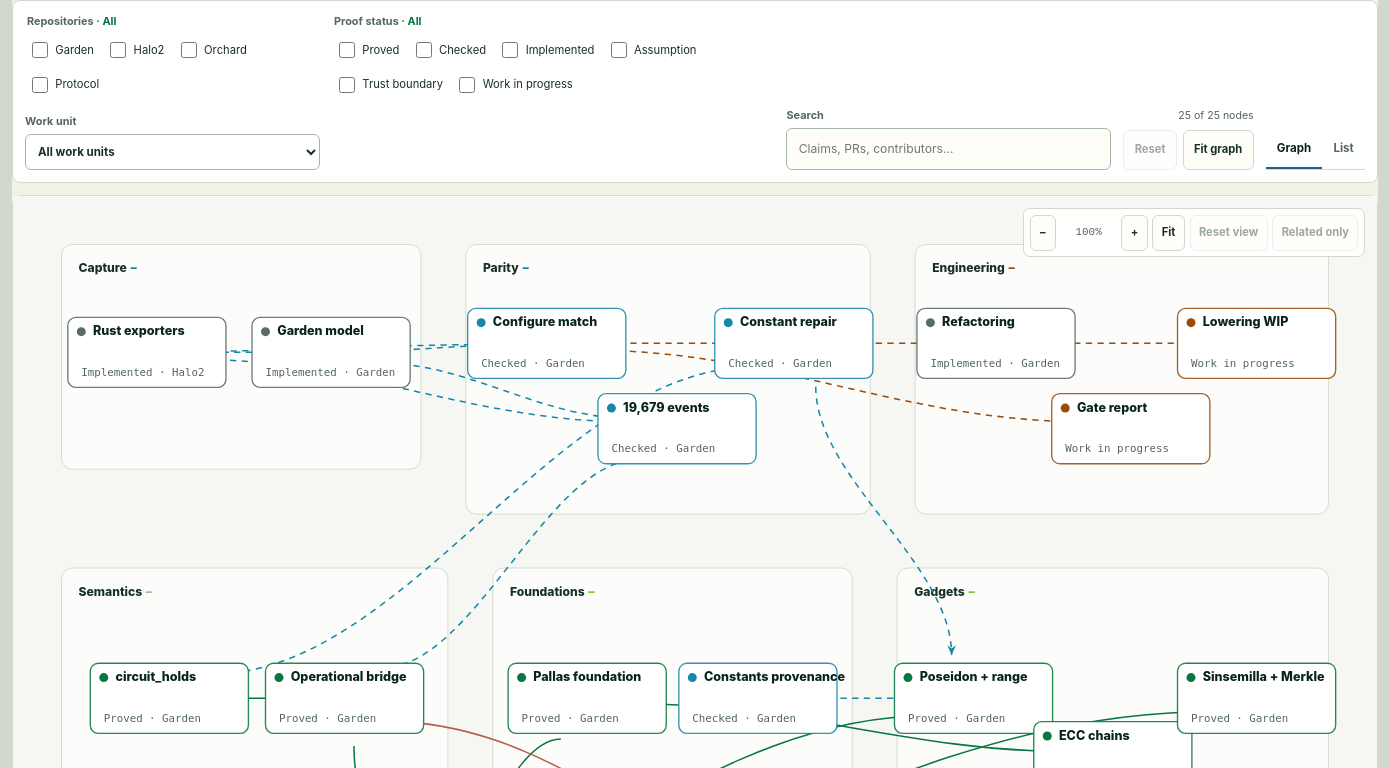
it: proof atlas interactions › filters and searches nodes by development provenance
Select "Operational soundness" in the dropdown named "Filter by work unit": (172, 152) [25,134,320,170]
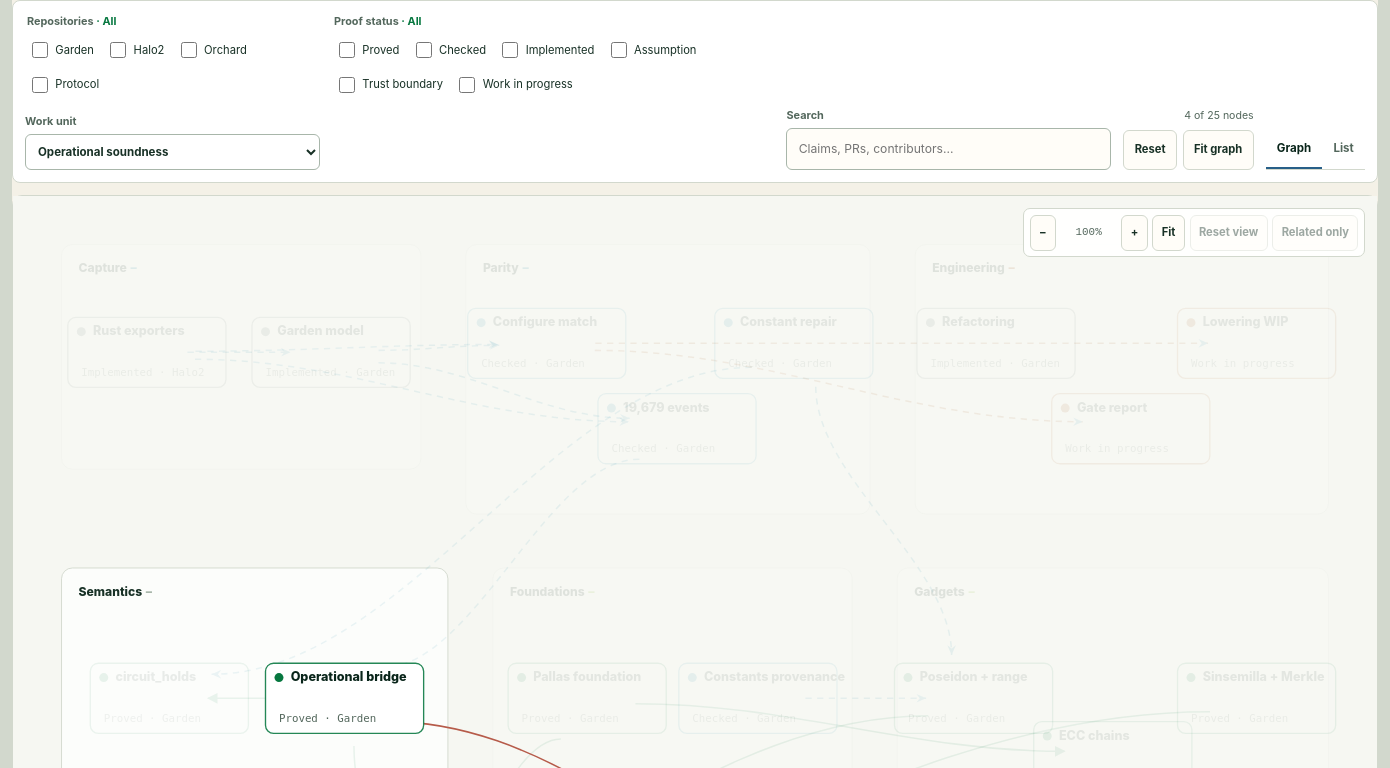
In the search field named "Search the atlas": (949, 149) [786,128,1111,170], type "Migrated PR 29"
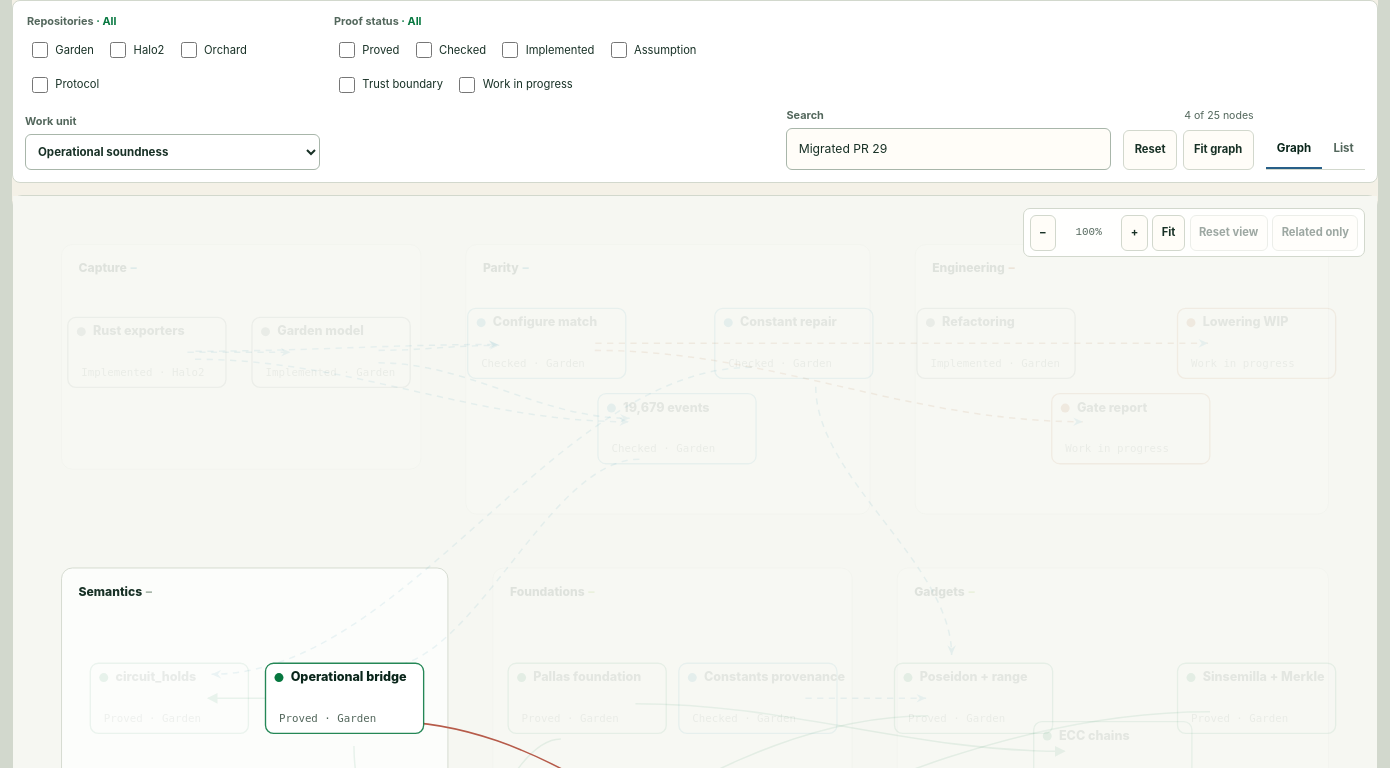
Click the button "Reset": (1150, 150) [1123,130,1177,170]
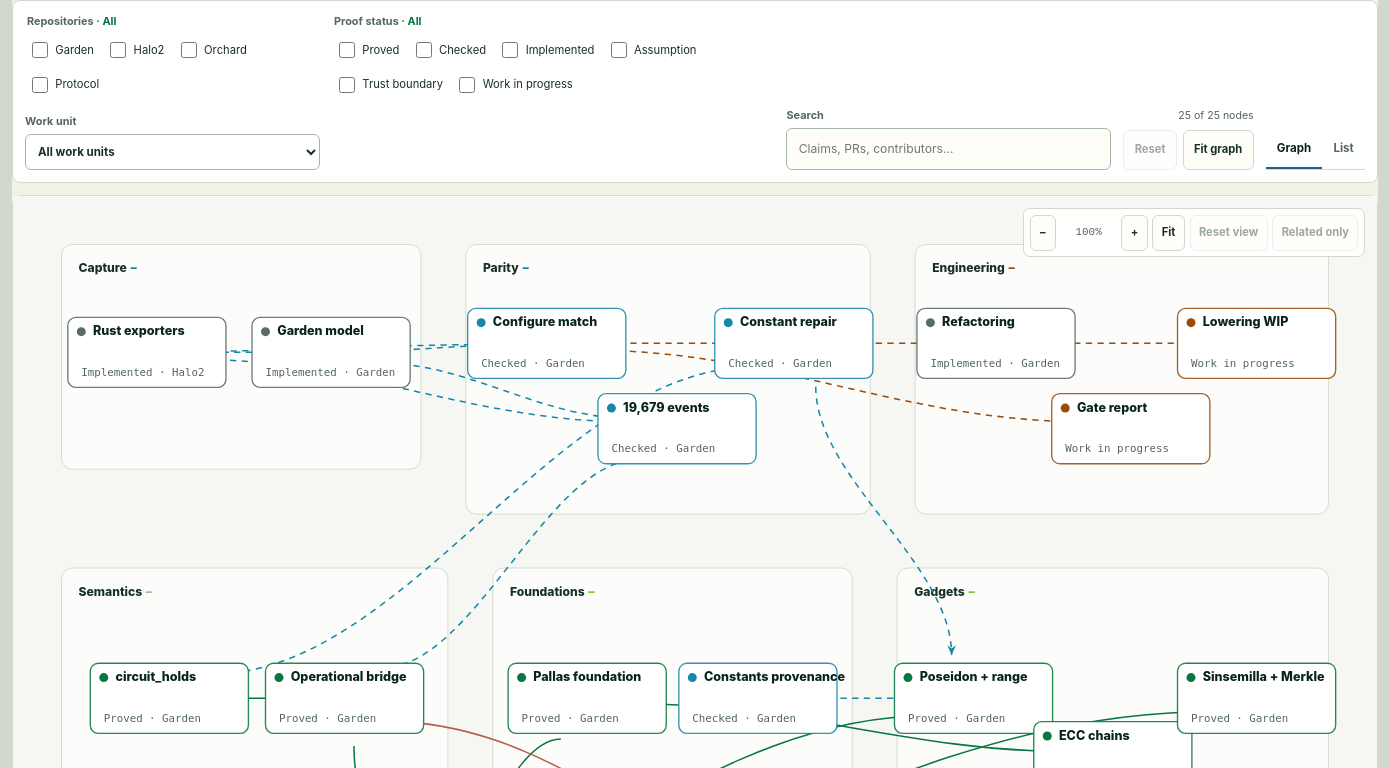
Check: the search field named "Search the atlas" is empty, box [786,128,1111,170]
